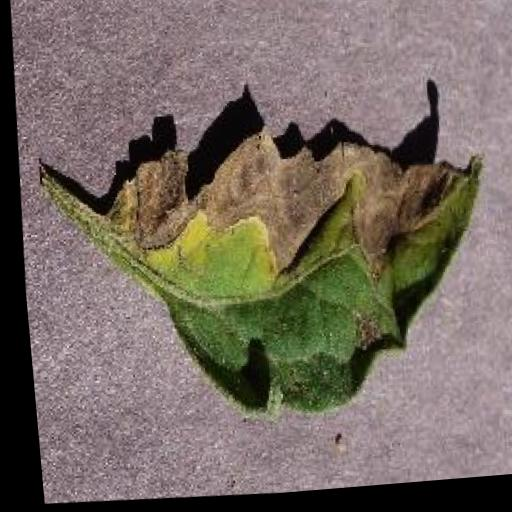Early Blight: (82, 94, 500, 433)
